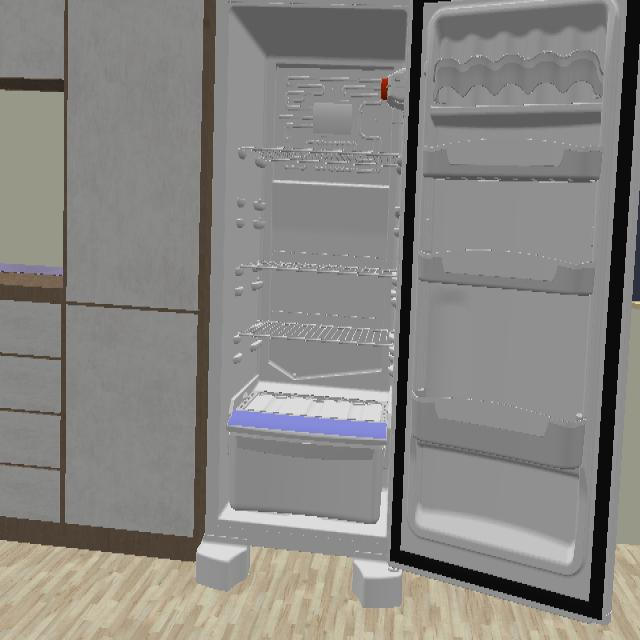fridge: (150, 0, 640, 624)
